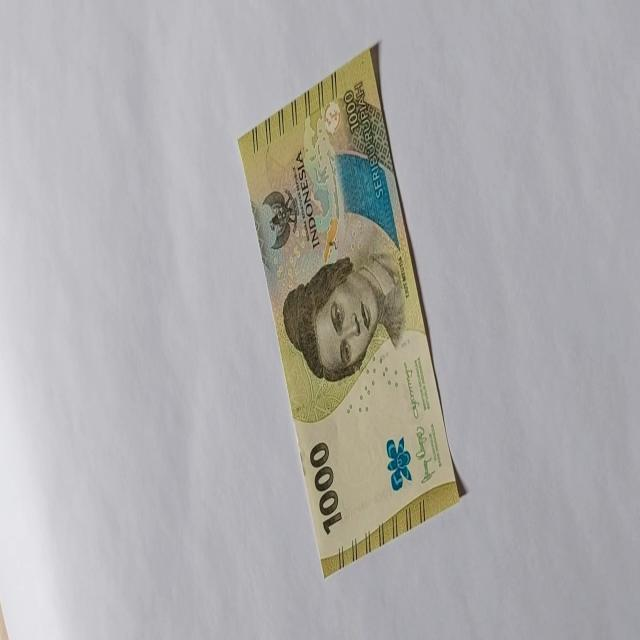seribu rupiah kertas: (236, 44, 461, 578)
